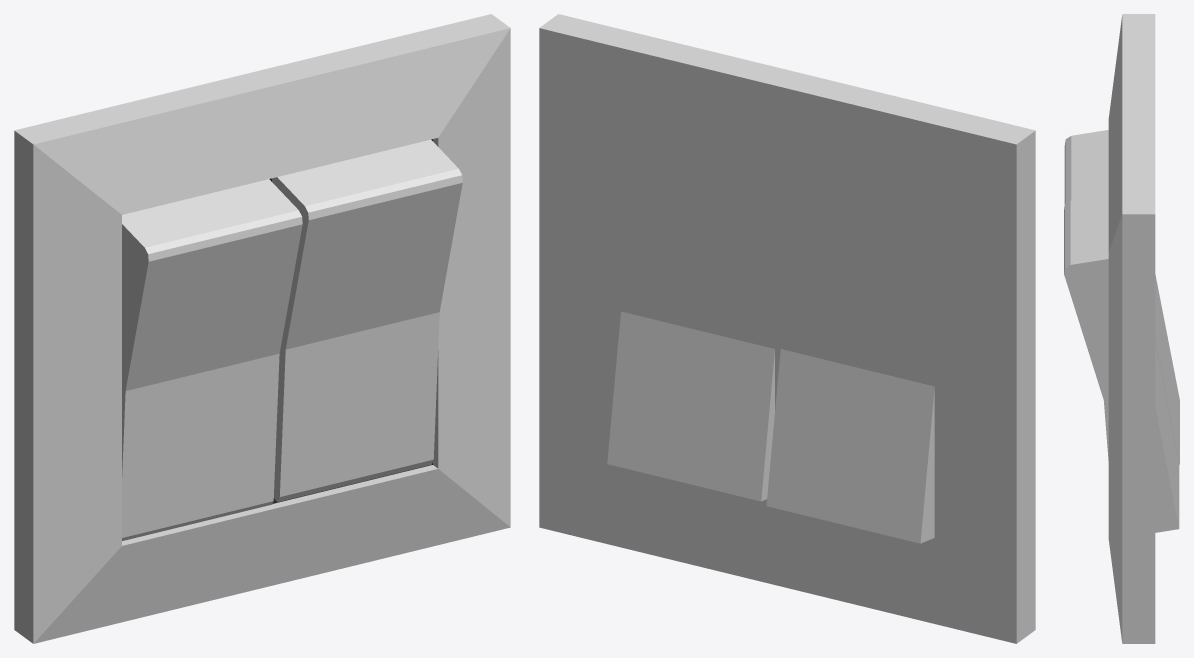
The model's file is Wallswitch(00).fbx.
3 renders of one model, left to right at view 1: azimuth 30°, elevation 25°; view 2: azimuth 150°, elevation 25°; view 3: azimuth 270°, elevation 25°, orthographic. The views are drawn at different scales.
Visible parts, largest first — view 1: Wallswitch(00); view 2: Wallswitch(00); view 3: Wallswitch(00).
Part boxes in pixels (left/top/right/bottom): Wallswitch(00): left=14, top=14, right=510, bottom=643; Wallswitch(00): left=539, top=14, right=1035, bottom=643; Wallswitch(00): left=1064, top=14, right=1179, bottom=643.
Size of the model in its own units: 11.67 by 11.67 by 2.85.
